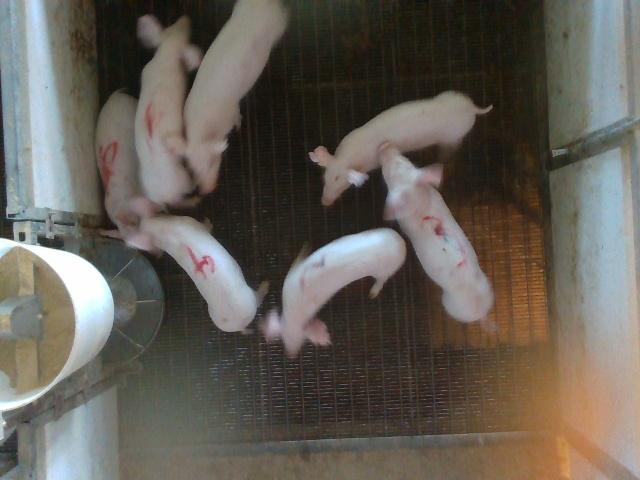pig-1: (135, 15, 202, 205)
pig-2: (260, 229, 406, 356)
pig-3: (380, 144, 494, 322)
pig-4: (130, 195, 266, 331)
pig-5: (95, 90, 142, 228)
